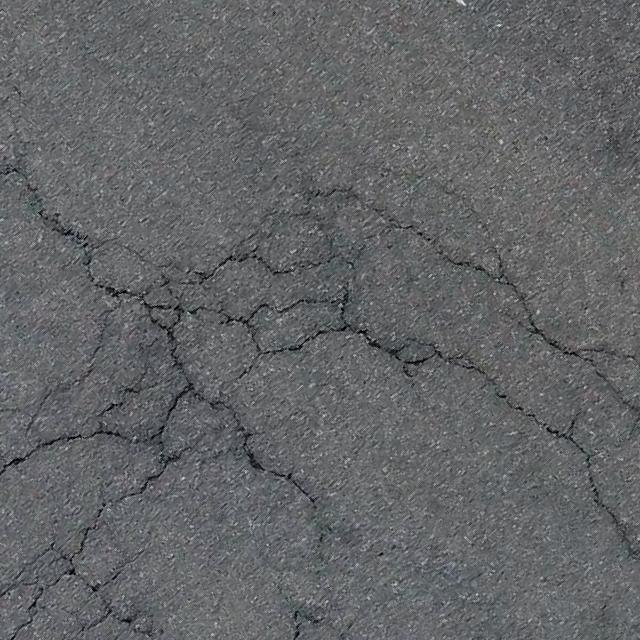GRIETA: (10, 165, 114, 294), (245, 452, 317, 511), (292, 612, 301, 639)
PIEL DE COCODRILO: (0, 164, 639, 639)
